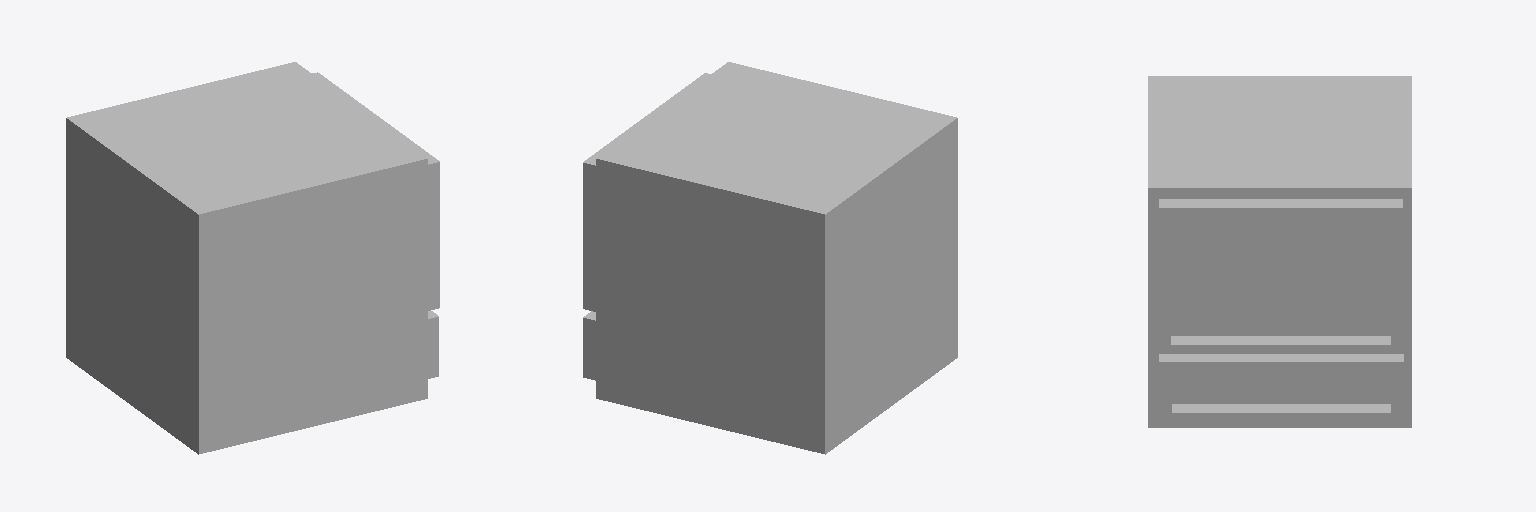
Rendered from shop_block.obj.
3 views of the same model, side by side, from view 1: azimuth 30°, elevation 25°; view 2: azimuth 150°, elevation 25°; view 3: azimuth 270°, elevation 25° (orthographic).
Visible parts, largest first — view 1: Cube; view 2: Cube; view 3: Cube.
Boxes of the visible parts, box(x1,y1,x2,y2) form: Cube: box(66, 62, 439, 454); Cube: box(583, 62, 957, 454); Cube: box(1148, 76, 1411, 427).
Size of the model in its own units: 1.08 by 1 by 1.